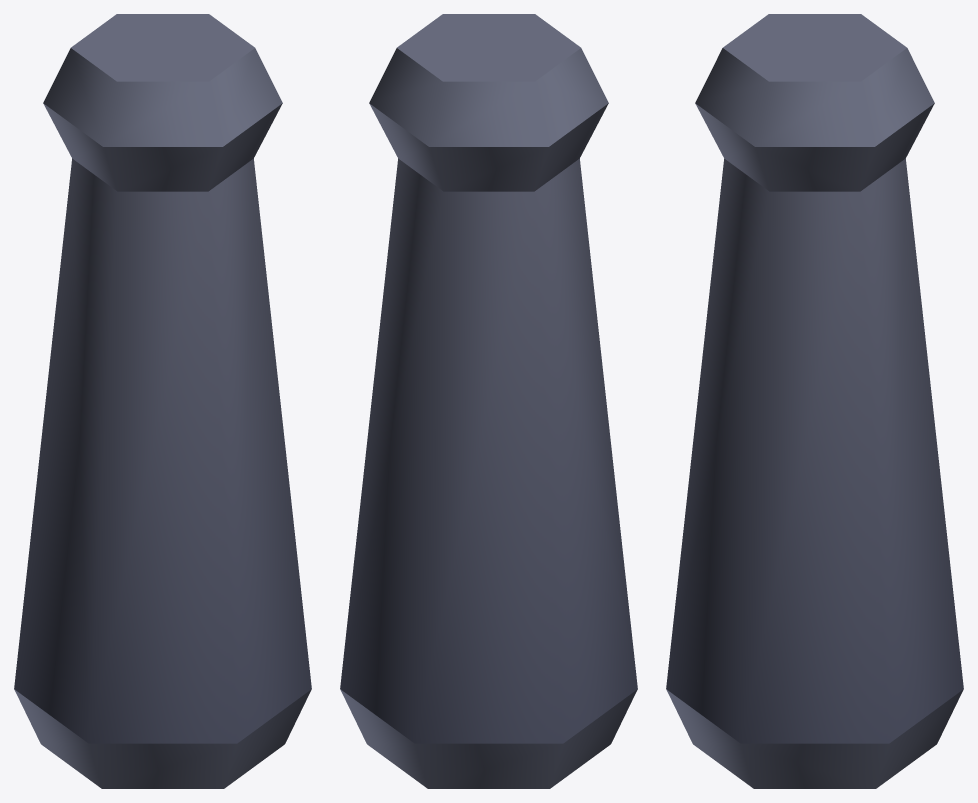
File: KF_mortar-pestle.glb
3 views of the same model, side by side, from view 1: azimuth 30°, elevation 25°; view 2: azimuth 150°, elevation 25°; view 3: azimuth 270°, elevation 25° (orthographic).
Visible parts, largest first — view 1: mortar-pestle; view 2: mortar-pestle; view 3: mortar-pestle.
Boxes of the visible parts, bbox=[...] form: mortar-pestle: bbox=[14, 14, 311, 788]; mortar-pestle: bbox=[340, 14, 637, 788]; mortar-pestle: bbox=[666, 14, 963, 788].
Size of the model in its own units: 0.1142 by 0.3402 by 0.1318.
